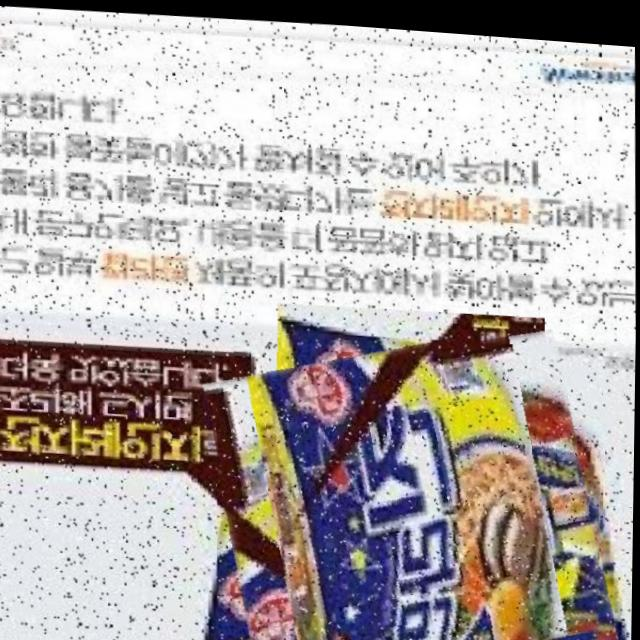Miscellaneous: (212, 317, 610, 640)
